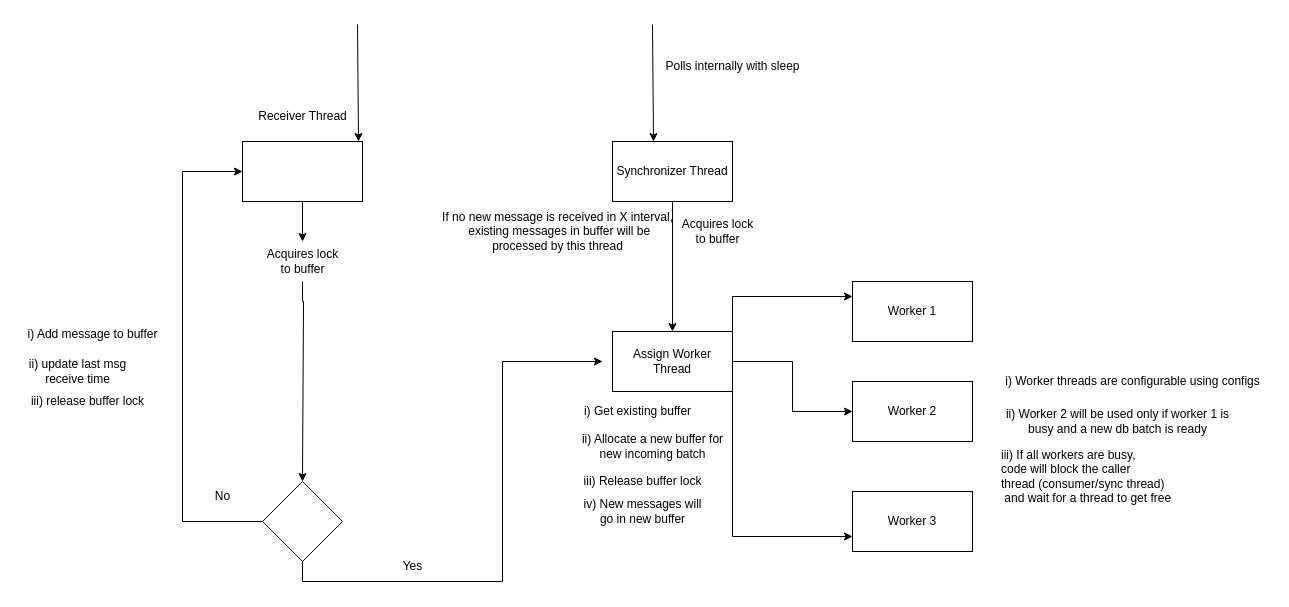
The diagram is 1289 pixels wide and 607 high, and some of its shapes have lost their labels. Here are the shapes that lost their labels. From the top down, the centre of each, then its label:
At [302,171]: "Consumer ConsumeClaim Thread".
At [302,521]: "Buffer Full?".
